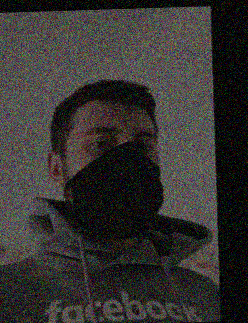with_mask: (69, 120, 163, 239)
